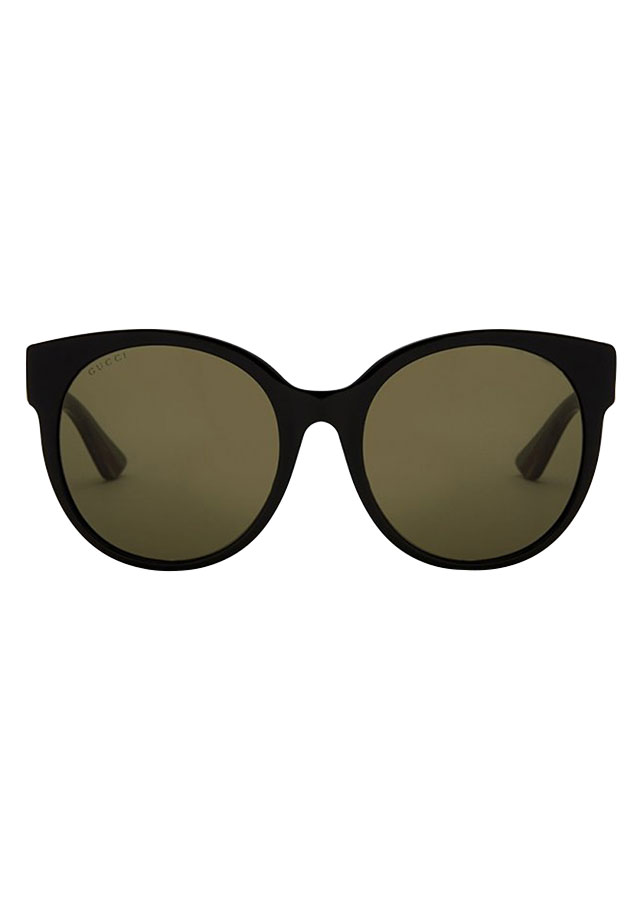Gucci: (82, 345, 131, 378)
